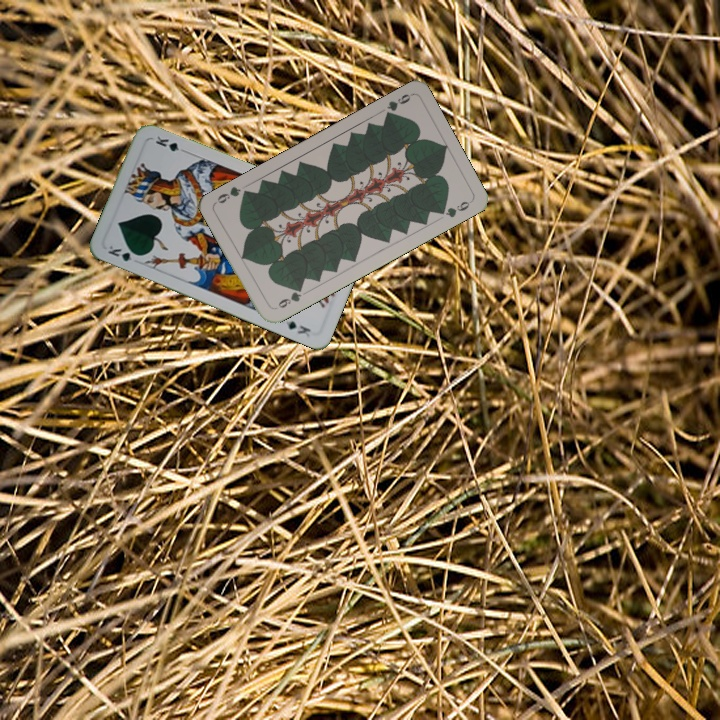G9: (381, 90, 414, 121), (270, 283, 305, 312)
GK: (104, 241, 143, 265)
